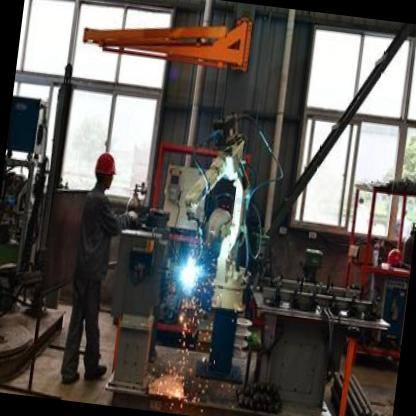helmet: (91, 146, 123, 196)
